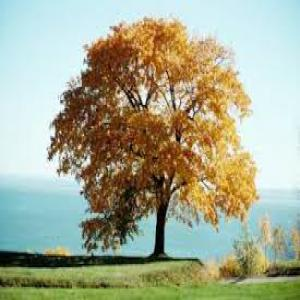Tree: (46, 13, 261, 257)
